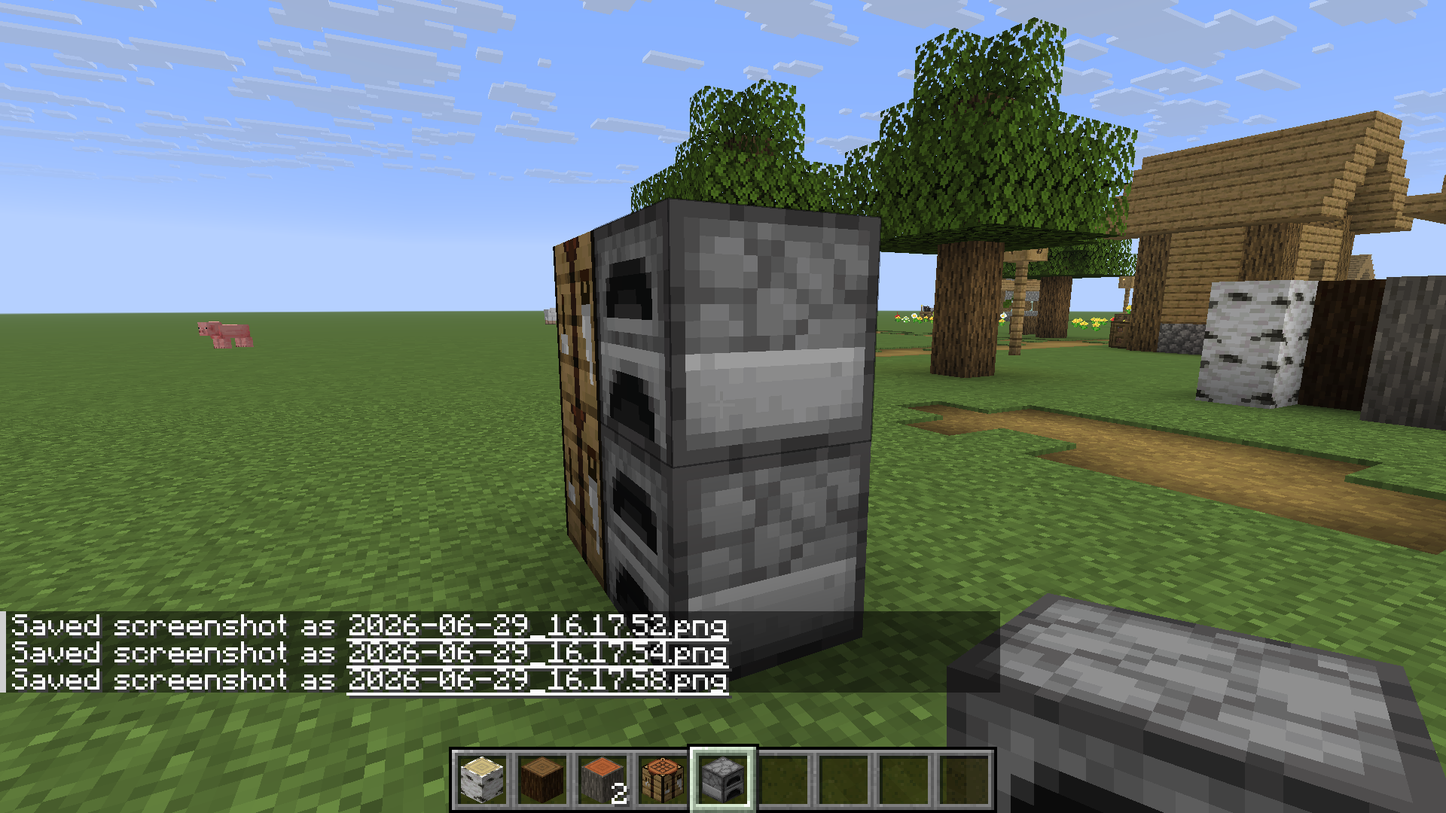Tree: (844, 18, 1142, 388)
